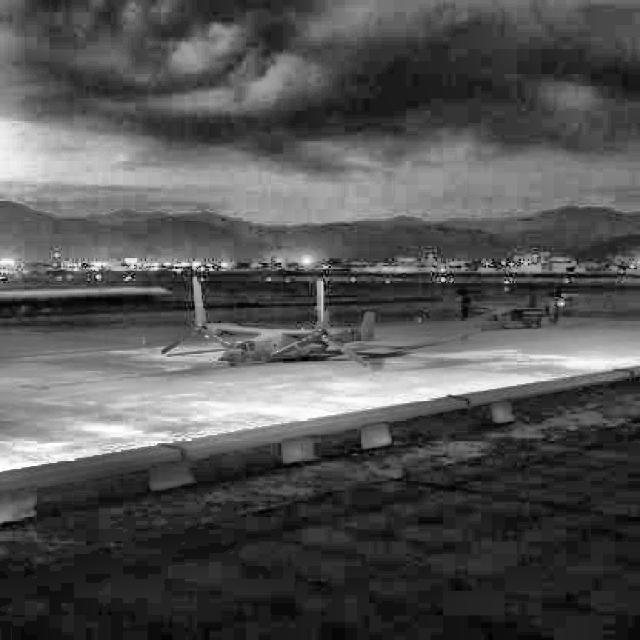V22: (160, 280, 378, 368), (440, 288, 582, 332)
